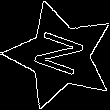N_E: (28, 28, 92, 83)
